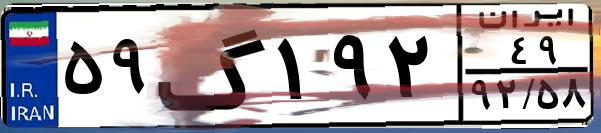1: (270, 28, 330, 110)
2: (385, 28, 445, 110), (495, 70, 520, 125)
4: (508, 27, 537, 80)
5: (57, 26, 110, 100), (535, 70, 560, 125)
8: (560, 70, 590, 125)
9: (330, 28, 385, 110), (110, 28, 156, 98), (537, 27, 568, 80), (470, 70, 495, 125)
گ: (156, 12, 270, 120)
